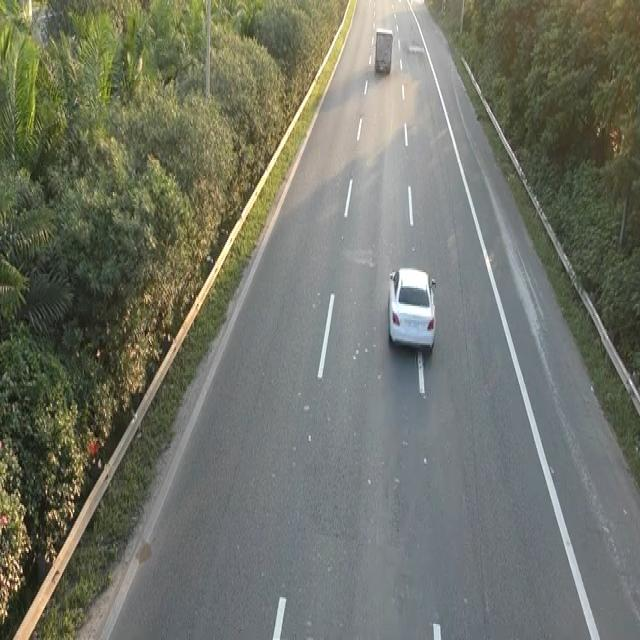bus: (385, 263, 438, 354)
minivan: (373, 25, 394, 75)
